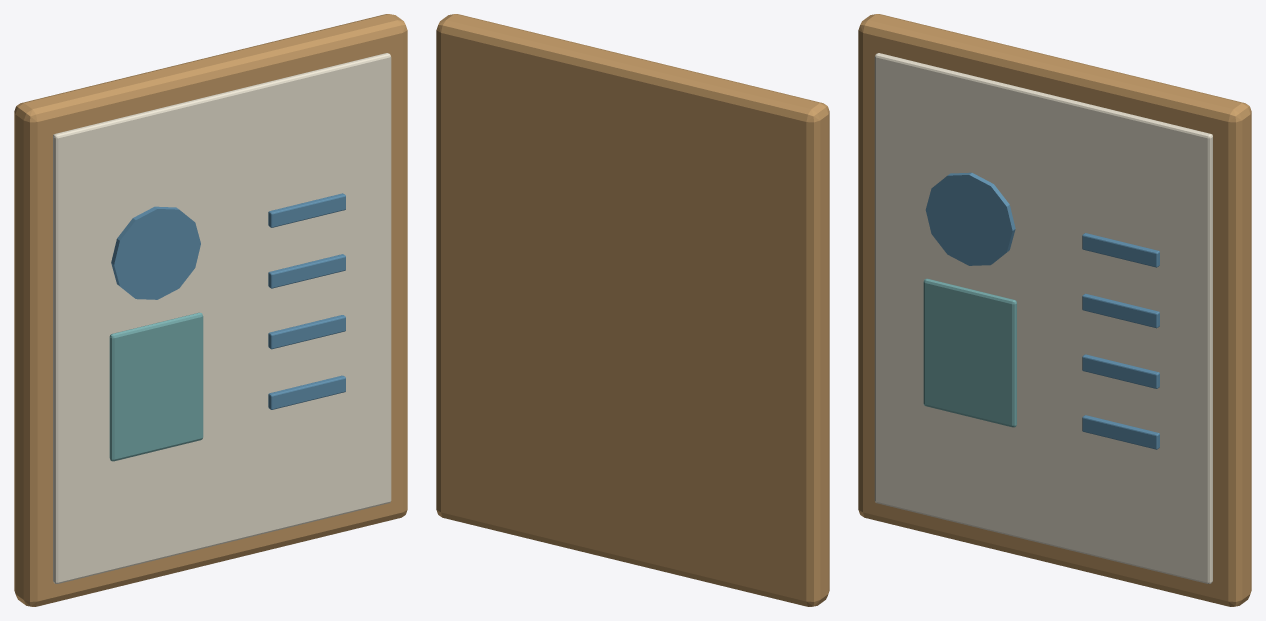
File: lobby_T1_health_poster.glb
3 renders of one model, left to right at view 1: azimuth 30°, elevation 25°; view 2: azimuth 150°, elevation 25°; view 3: azimuth 330°, elevation 25°, orthographic.
Parts seen in each view (by area): view 1: lobby_T1_health_poster__Static_Assembly; view 2: lobby_T1_health_poster__Static_Assembly; view 3: lobby_T1_health_poster__Static_Assembly.
Boxes of the visible parts, x1=… form: lobby_T1_health_poster__Static_Assembly: x1=14, y1=14, x2=407, y2=606; lobby_T1_health_poster__Static_Assembly: x1=436, y1=14, x2=829, y2=606; lobby_T1_health_poster__Static_Assembly: x1=858, y1=14, x2=1251, y2=606.
Size of the model in its own units: 0.66 by 0.82 by 0.0775.
